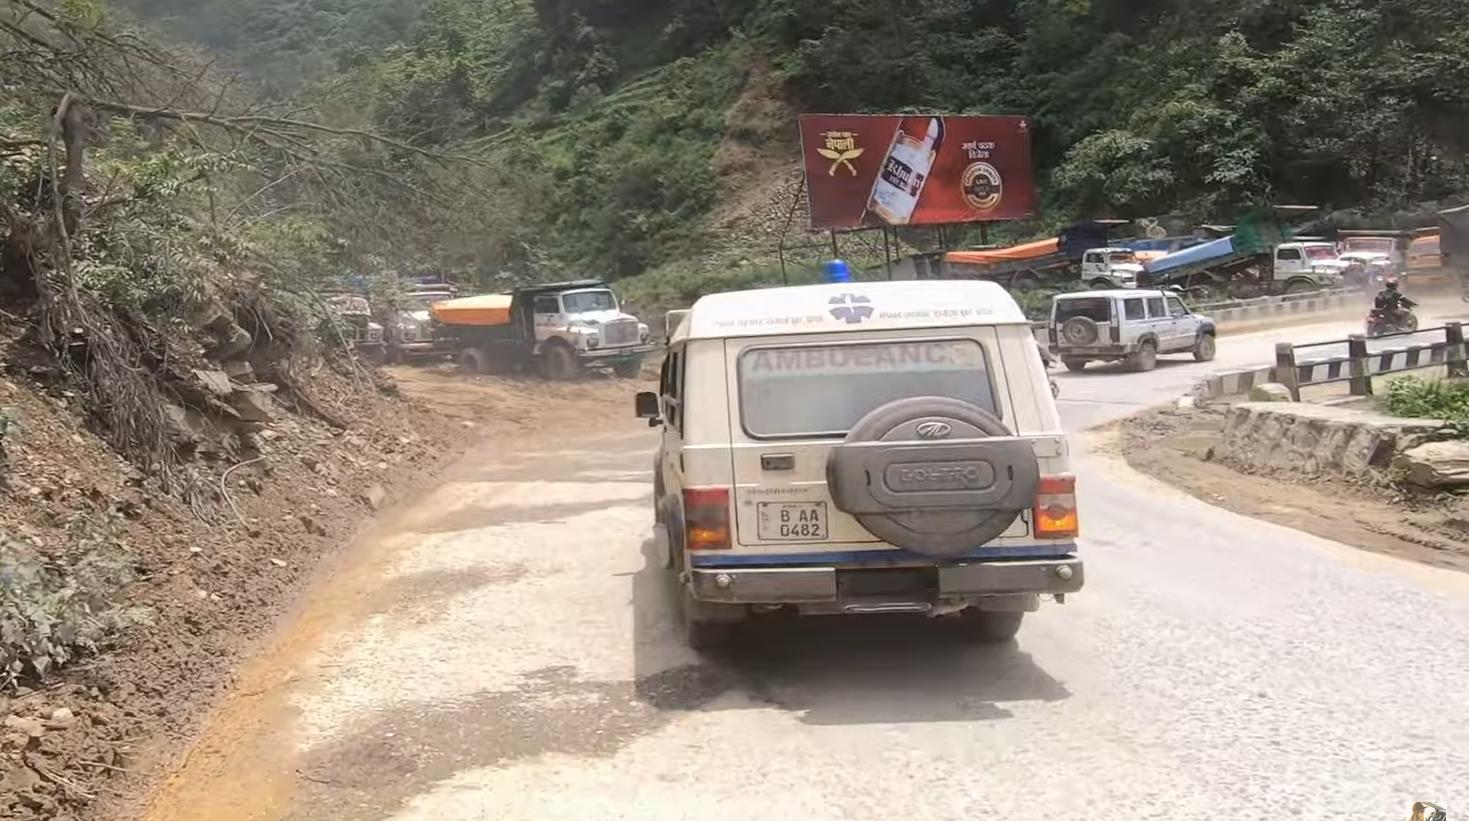SUV: (1043, 281, 1224, 379)
ambulance: (628, 250, 1085, 654)
